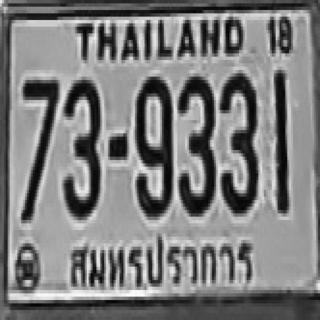N01: (274, 70, 287, 210)
N03: (177, 73, 214, 213), (220, 72, 256, 212), (62, 77, 98, 217)
N07: (21, 77, 58, 220)
N09: (135, 73, 172, 213)
P57: (65, 227, 262, 295)
